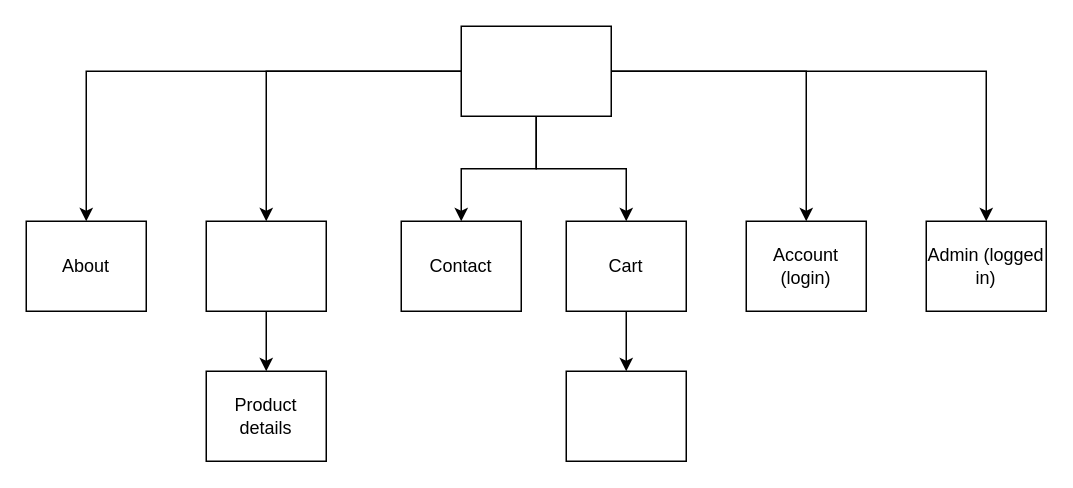
This 1073x488 diagram has some shape labels left out. Each missing label, with the centre of its shape:
"Checkout" belongs at point 625,415.
"Home" belongs at point 535,70.
"Shop" belongs at point 265,265.
